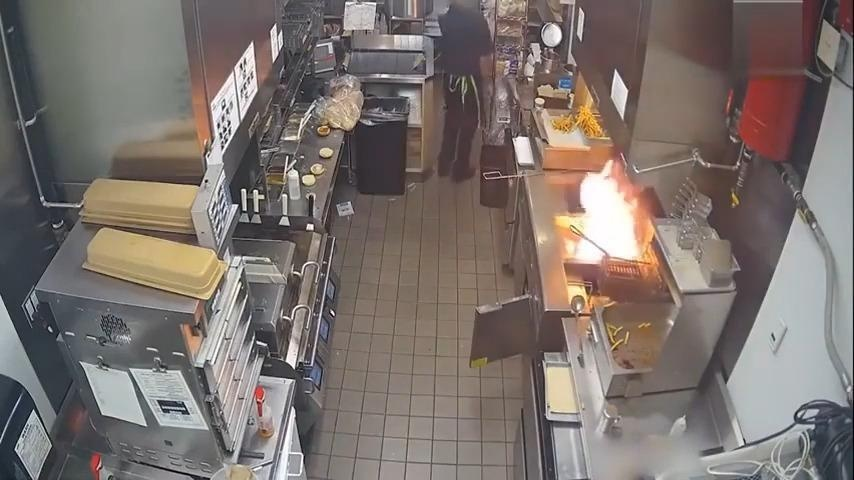fire: (550, 149, 662, 301)
